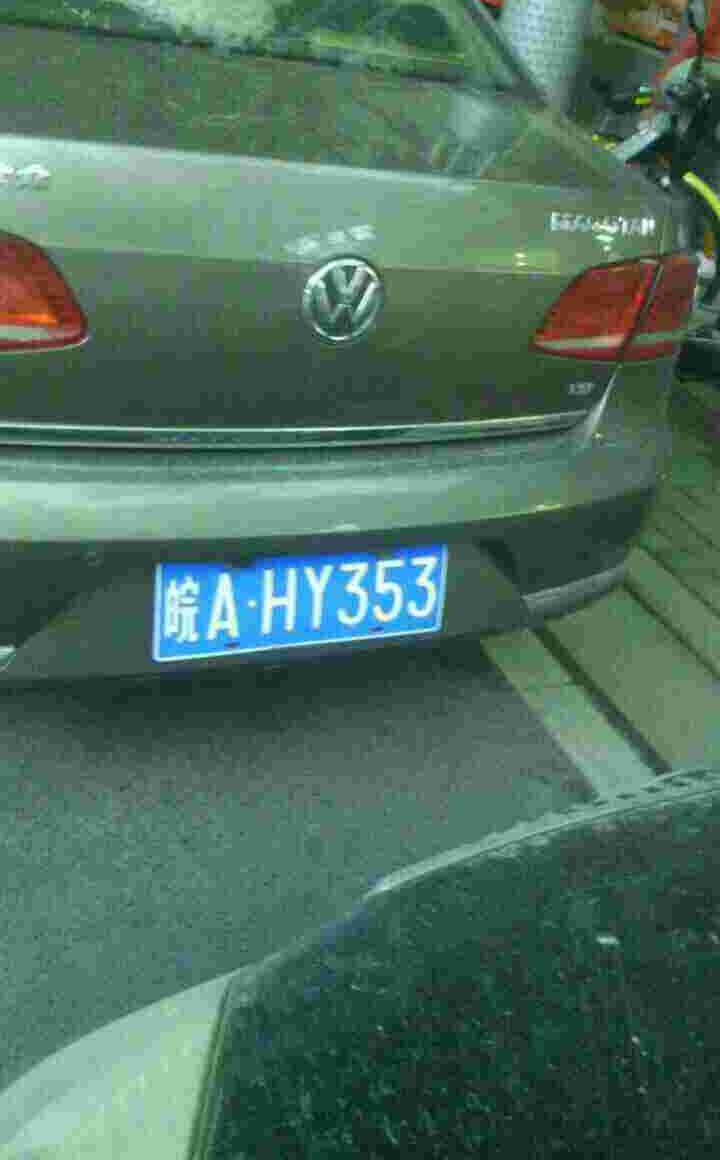license_plate: (153, 543, 442, 665)
